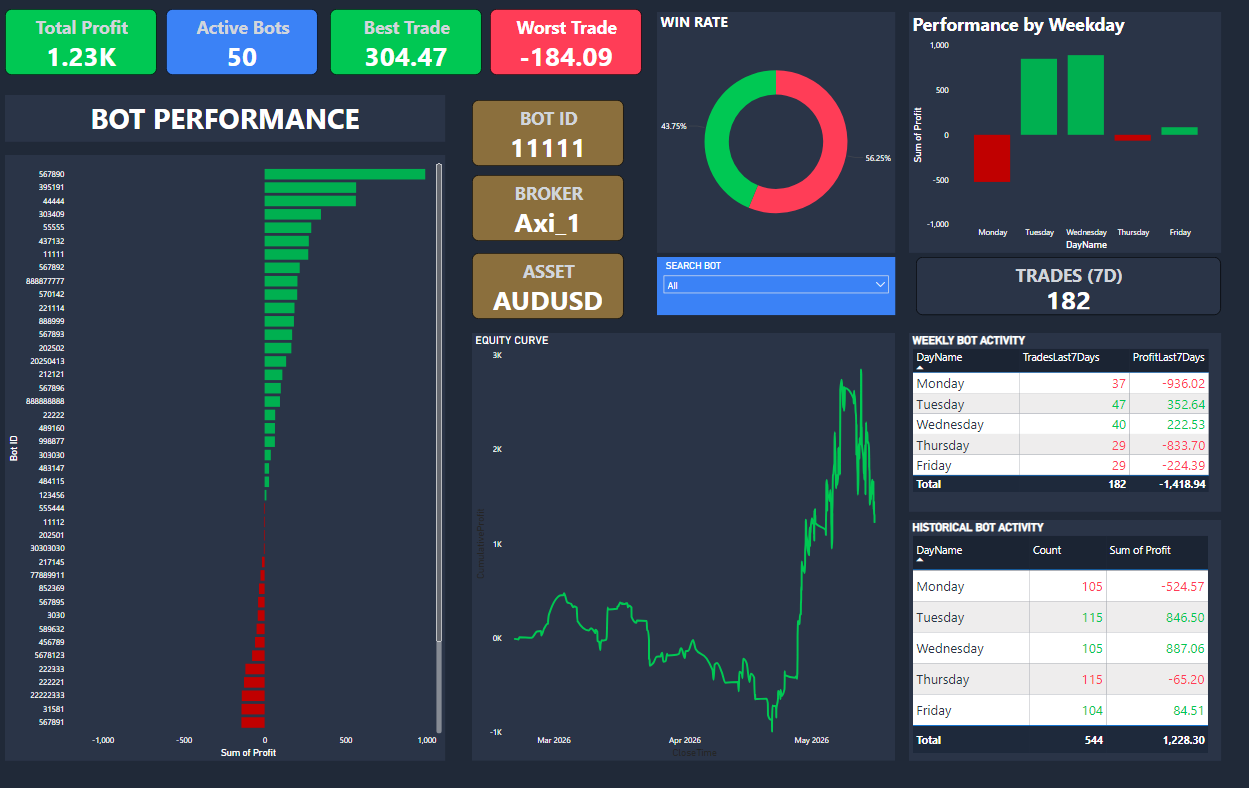

What the dashboard file says about the page in this screenshot:
{"tool":"powerbi","page":{"name":"Executive dasboard","canvas":[1900,1200],"ordinal":1},"visuals":[{"type":"barChart","title":"Bot Performance","fields":{"Category":["processed_data.MagicNumber"],"Y":["Sum(processed_data.Profit)"]},"box":[12,252,862,928],"z":4000},{"type":"slicer","fields":{"Values":["processed_data.AccountName"]},"box":[1237.9,450,286.4,90],"z":5000},{"type":"slicer","fields":{"Values":["processed_data.Symbol"]},"box":[1554.5,450,300,90],"z":6000},{"type":"clusteredColumnChart","title":"Performance by Weekday","fields":{"Category":["processed_data.DayName"],"Y":["Sum(processed_data.Profit)"]},"box":[1381.8,19.7,472.7,365.2],"z":8000},{"type":"card","fields":{"Values":["Sum(processed_data.Profit)"]},"box":[12.1,15.2,230.3,100],"z":8001},{"type":"card","fields":{"Values":["Count(processed_data.MagicNumber)"]},"box":[256.1,15.2,230.3,100],"z":8002},{"type":"card","fields":{"Values":["Max(processed_data.Profit)"]},"box":[504.5,15.2,230.3,100],"z":8003},{"type":"card","fields":{"Values":["Min(processed_data.Profit)"]},"box":[747,15.2,230.3,100],"z":8004},{"type":"textbox","box":[11.7,180,861.7,71.7],"z":8005},{"type":"slicer","fields":{"Values":["processed_data.MagicNumber"]},"box":[921.2,450,286.4,90],"z":8006},{"type":"donutChart","title":"WIN RATE","fields":{"Category":["processed_data.TradeResult"],"Y":["Count(processed_data.Ticket)"]},"box":[1000,19.7,360.6,365.2],"z":8009},{"type":"lineChart","title":"EQUITY CURVE","fields":{"Y":["processed_data.CumulativeProfit"],"Category":["processed_data.CloseTime"]},"box":[921.2,628.8,933.3,550],"z":8010}]}

Visuals, with their boxes in screenshot pixels (x1, y1, x2, y2), scaled from the page's 1900x1200 canvas onto the 1249x788 screenshot:
"Bot Performance" barChart: x1=8, y1=165, x2=575, y2=775
slicer - processed_data.AccountName: x1=814, y1=296, x2=1002, y2=355
slicer - processed_data.Symbol: x1=1022, y1=296, x2=1219, y2=355
"Performance by Weekday" clusteredColumnChart: x1=908, y1=13, x2=1219, y2=253
card - Sum(processed_data.Profit): x1=8, y1=10, x2=159, y2=76
card - Count(processed_data.MagicNumber): x1=168, y1=10, x2=320, y2=76
card - Max(processed_data.Profit): x1=332, y1=10, x2=483, y2=76
card - Min(processed_data.Profit): x1=491, y1=10, x2=642, y2=76
textbox: x1=8, y1=118, x2=574, y2=165
slicer - processed_data.MagicNumber: x1=606, y1=296, x2=794, y2=355
"WIN RATE" donutChart: x1=657, y1=13, x2=894, y2=253
"EQUITY CURVE" lineChart: x1=606, y1=413, x2=1219, y2=774
